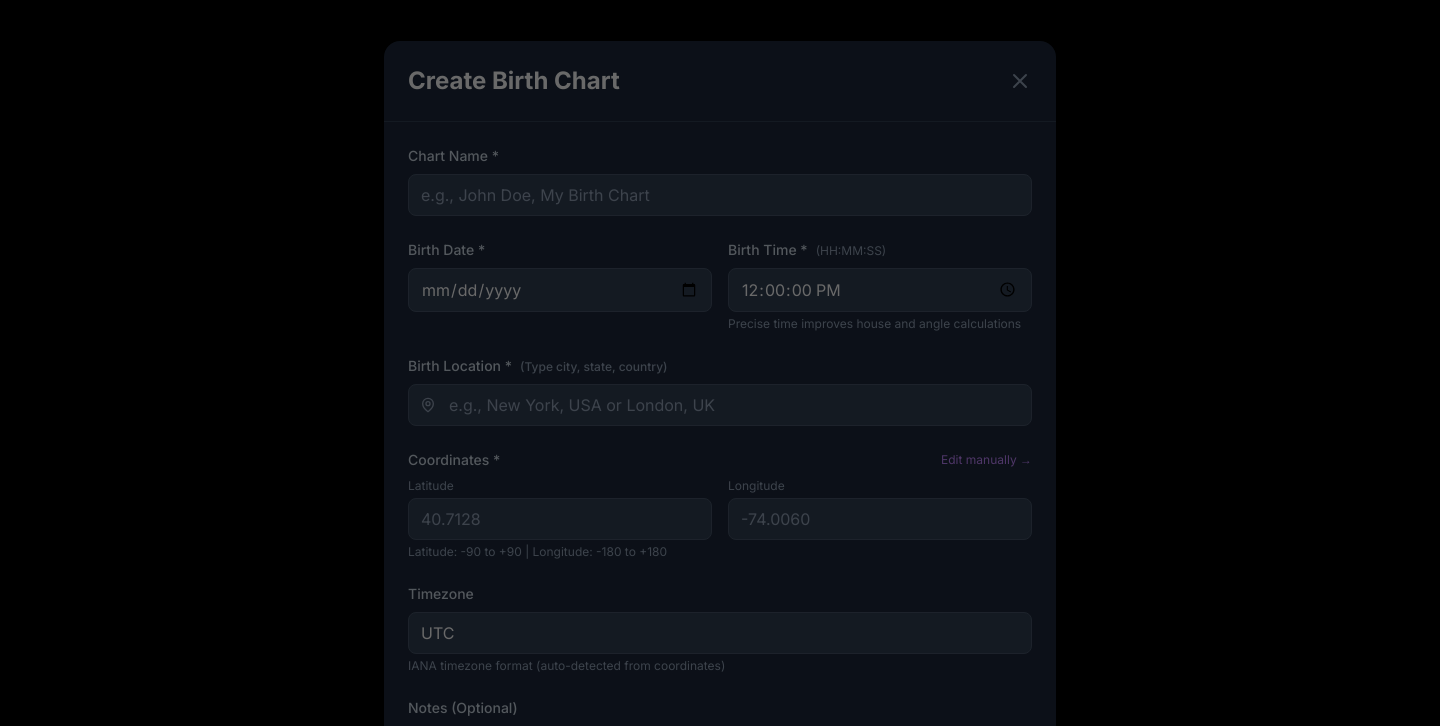
Test: BirthChartForm - Geocoding Integration › Auto-population › should auto-fill coordinates when location is selected
In the field with placeholder "e.g., New York, USA or London, UK": (720, 404) [408, 384, 1032, 426], type "London"
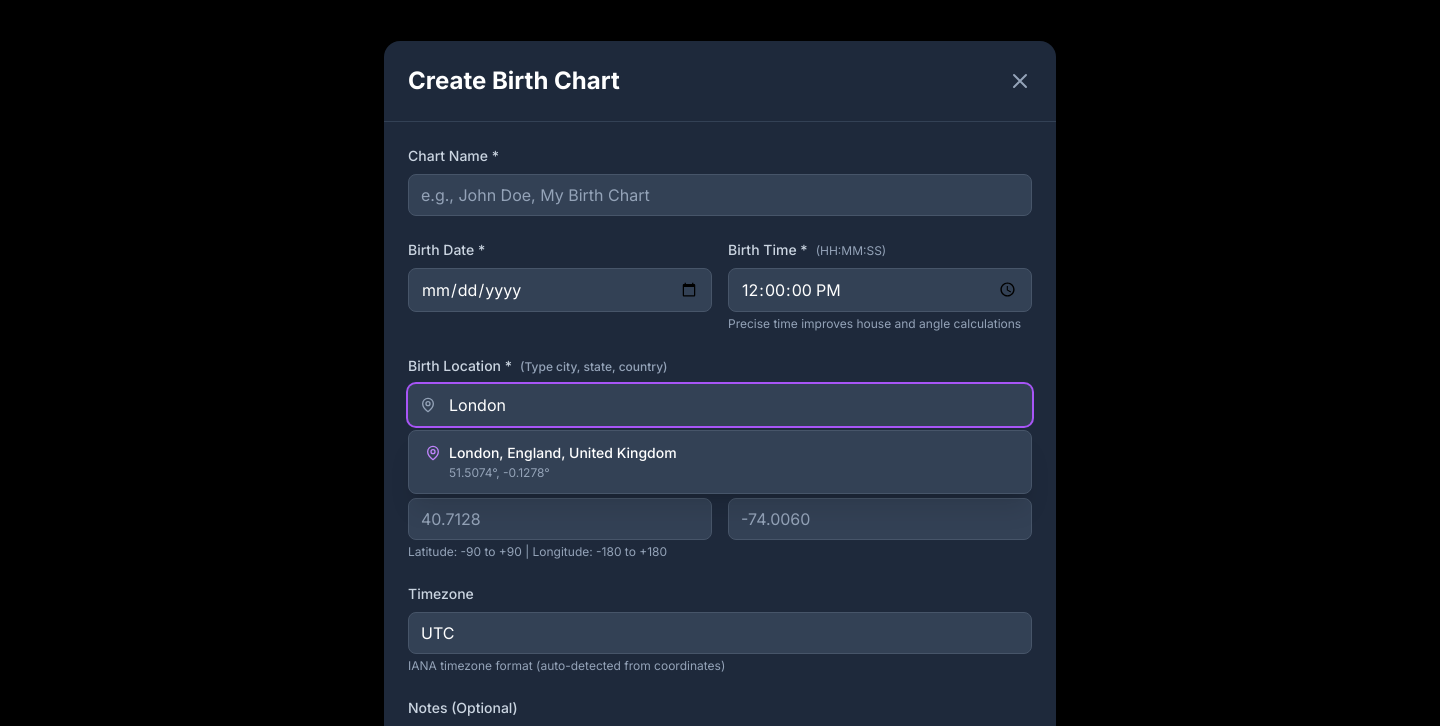
Expected: the text "London, England, United Kingdom" is shown
Click the text "London, England, United Kingdom": (563, 452) [449, 444, 677, 460]
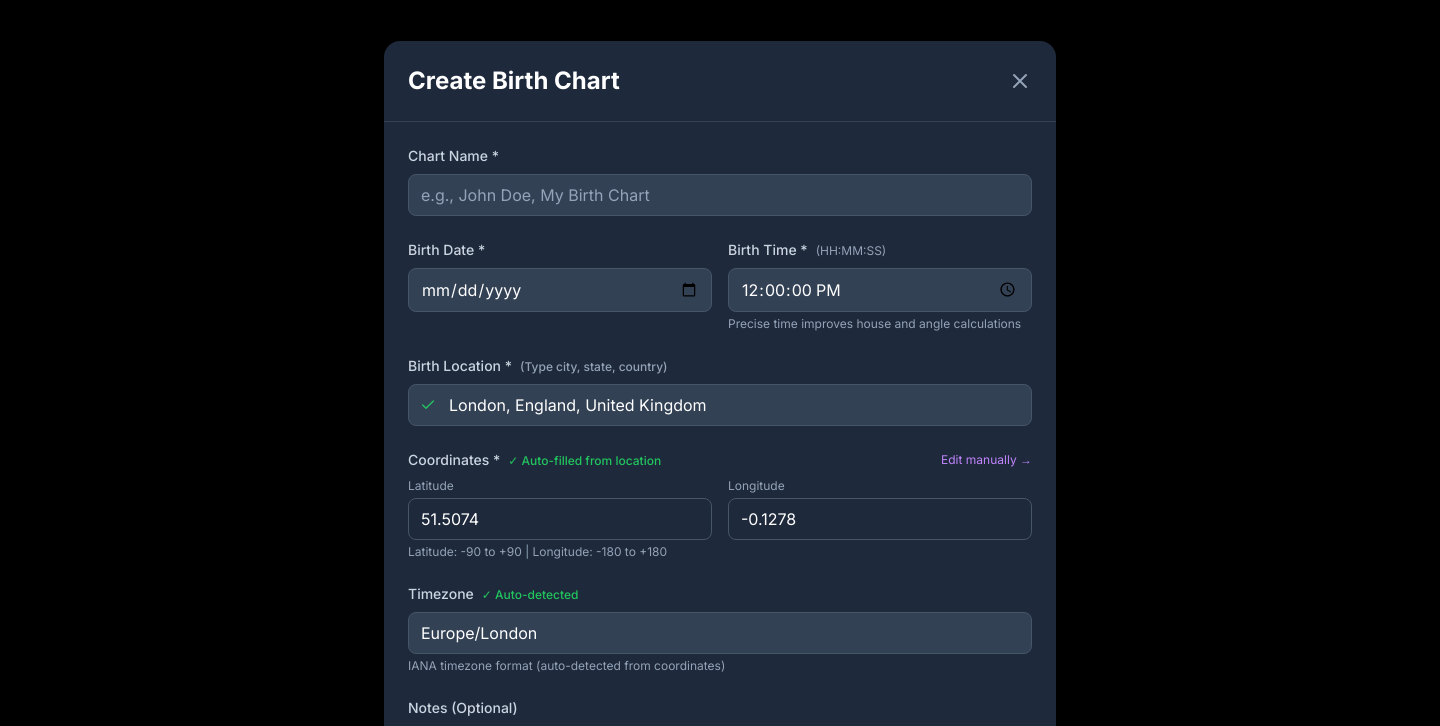
Expected: the number field labelled "Latitude" holds "51.5074", [408, 498, 712, 540]
Expected: the number field labelled "Longitude" holds "-0.1278", [728, 498, 1032, 540]
